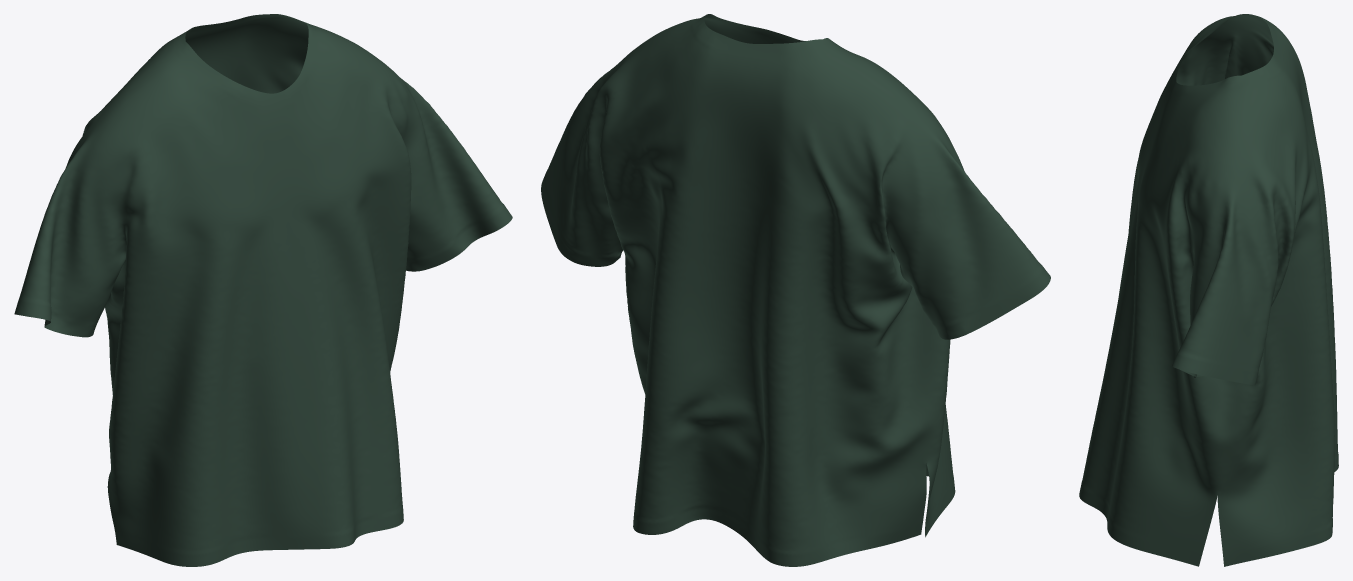
File: tee-studio-v06.glb
3 views of the same model, side by side, from view 1: azimuth 30°, elevation 25°; view 2: azimuth 150°, elevation 25°; view 3: azimuth 270°, elevation 25° (orthographic). The views are drawn at different scales.
Parts seen in each view (by area): view 1: BROCKCREATIVE SHIRT; view 2: BROCKCREATIVE SHIRT; view 3: BROCKCREATIVE SHIRT.
Boxes of the visible parts, x1=… form: BROCKCREATIVE SHIRT: x1=14, y1=14, x2=512, y2=566; BROCKCREATIVE SHIRT: x1=541, y1=14, x2=1050, y2=566; BROCKCREATIVE SHIRT: x1=1079, y1=14, x2=1338, y2=566.
Bounding box in the file's own units: 1.87 × 1.78 × 0.8889.
